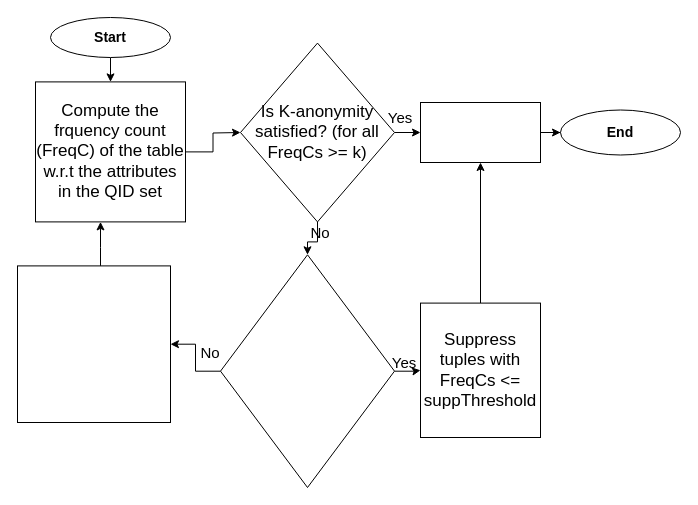
The diagram is 698 pixels wide and 505 high, and some of its shapes have lost their labels. The shapes that lost their labels are listed below. From the top down, each one's centre as x and y in pixels, then its label:
the point at 480,132: Return anonymized table
the point at 93,343: Generalize table using the attribute having the most number of distinct values
the point at 307,371: Is table ready for suppression? (FreqCs <= suppThreshold)
